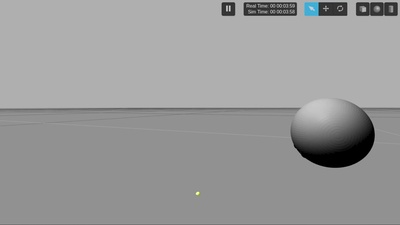mira_robot: (290, 98, 375, 168)
